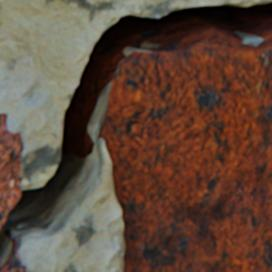broken_brick: (102, 35, 271, 271), (0, 113, 24, 228), (3, 245, 26, 271)
crack: (0, 1, 271, 271)
